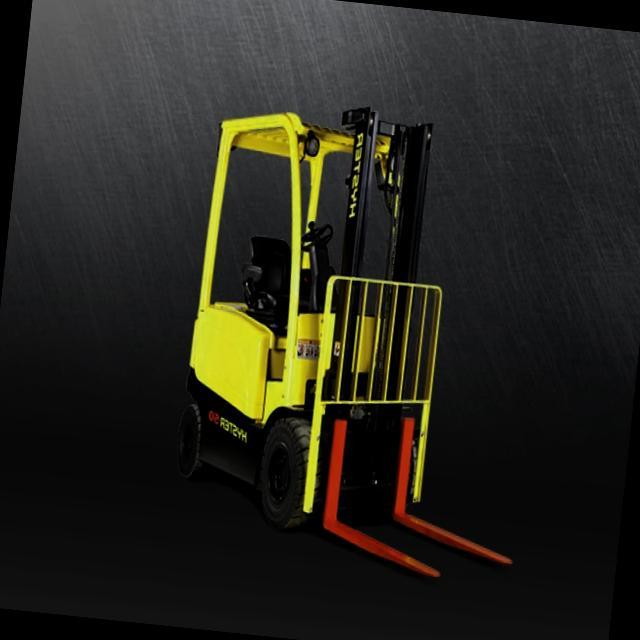forklift: (152, 70, 476, 552)
